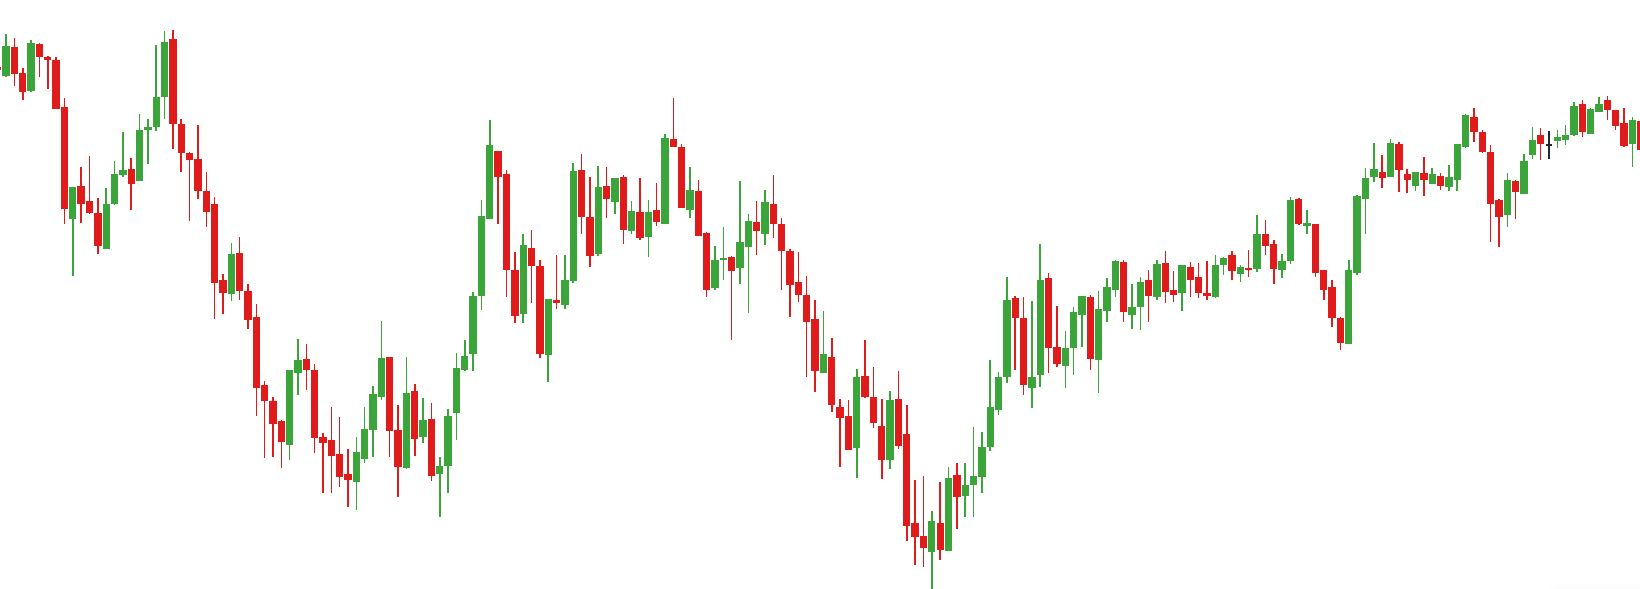buy: (261, 373, 362, 519), (1268, 224, 1354, 349), (1418, 143, 1514, 255), (395, 392, 455, 521)
sell: (568, 88, 687, 221), (735, 169, 779, 262)
